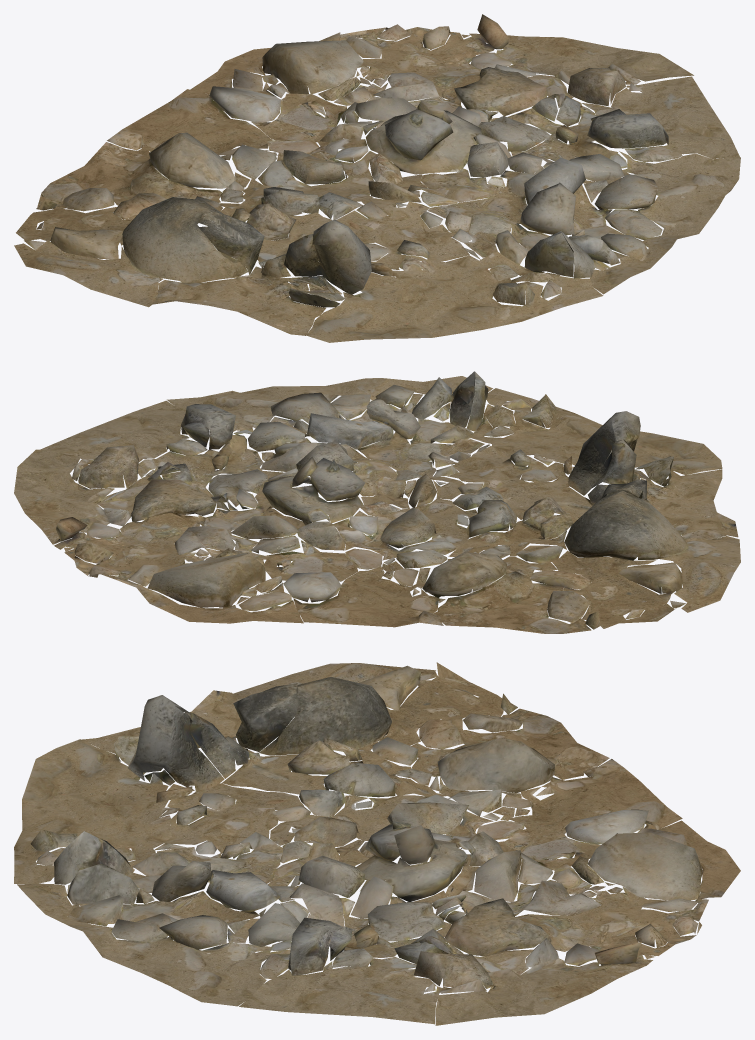
File: sand_rocks_small_01.glb
3 views of the same model, one above another, from view 1: azimuth 30°, elevation 25°; view 2: azimuth 150°, elevation 25°; view 3: azimuth 270°, elevation 25° (orthographic). The views are drawn at different scales.
Visible parts, largest first — view 1: sand_rocks_small_01_LOD0; view 2: sand_rocks_small_01_LOD0; view 3: sand_rocks_small_01_LOD0.
Part boxes in pixels (box(x1,y1,x2,y2)): sand_rocks_small_01_LOD0: box(14, 14, 740, 342); sand_rocks_small_01_LOD0: box(14, 371, 740, 633); sand_rocks_small_01_LOD0: box(14, 662, 740, 1025).
Bounding box in the file's own units: 4.63 × 0.5335 × 3.89.
1 material, 1 textured.
